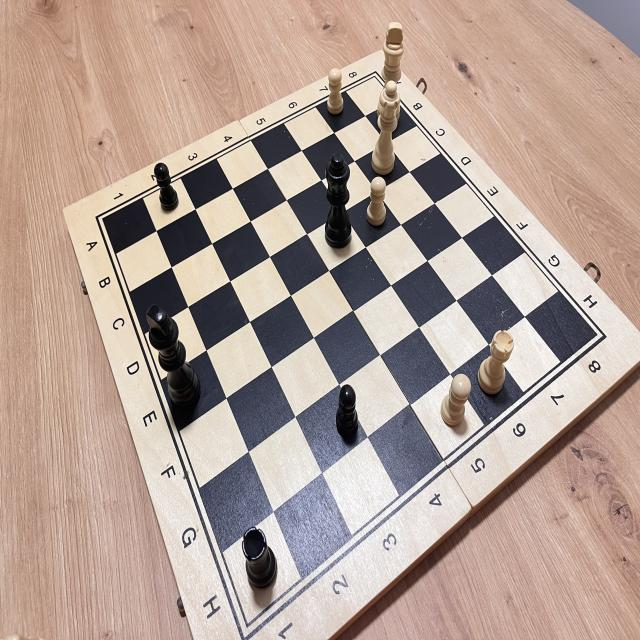black-king: (140, 300, 206, 417)
black-pawn: (331, 378, 367, 447), (146, 156, 183, 217)
black-queen: (314, 148, 356, 254)
black-rook: (237, 520, 288, 602)
white-king: (376, 20, 409, 138)
white-pawn: (436, 365, 474, 433), (362, 172, 393, 230), (324, 63, 349, 121)
white-queen: (366, 72, 408, 186)
white-rook: (472, 320, 520, 408)
